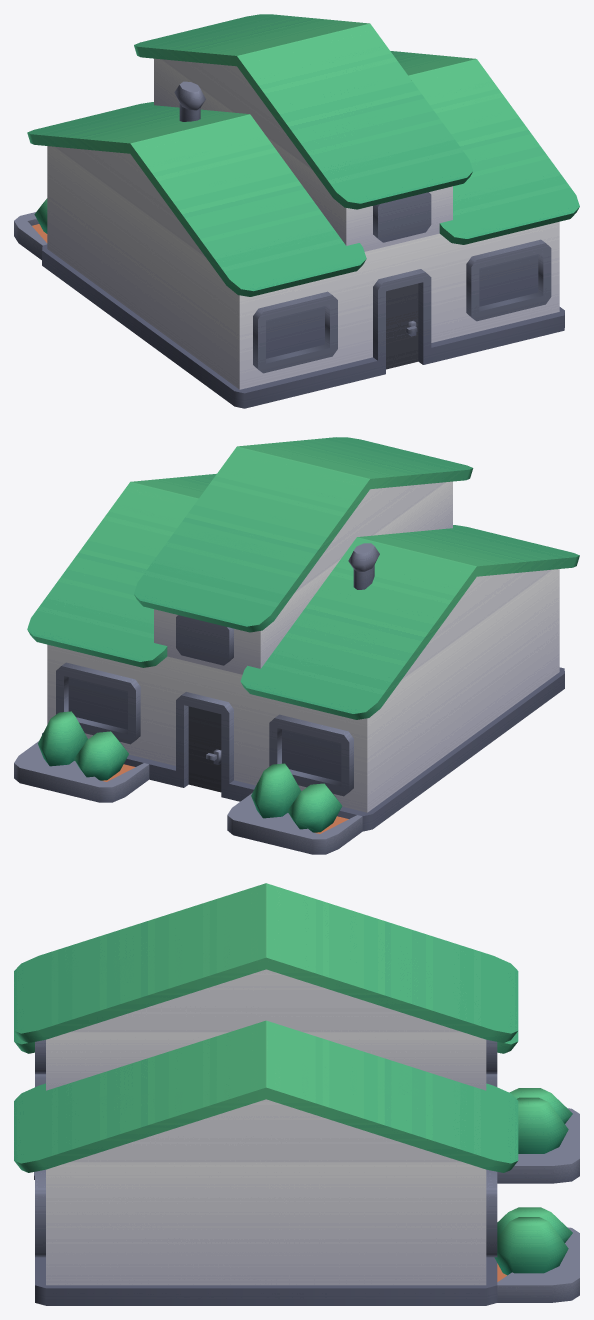
File: smallHouse.glb
3 renders of one model, top to bottom at view 1: azimuth 30°, elevation 25°; view 2: azimuth 150°, elevation 25°; view 3: azimuth 270°, elevation 25°, orthographic. The views are drawn at different scales.
Visible parts, largest first — view 1: low-0, high-0, medium-0; view 2: low-0, high-0, medium-0; view 3: low-0, high-0, medium-0.
Part boxes in pixels (x1,y1,x2,y2): low-0: (14,14,575,408); high-0: (14,14,579,407); medium-0: (14,15,575,408); low-0: (15,437,579,838); high-0: (14,437,579,854); medium-0: (14,437,571,853); low-0: (14,883,571,1305); high-0: (14,883,579,1302); medium-0: (14,888,579,1305).
Size of the model in its own units: 17 by 12 by 21.
1 material, 1 textured.
